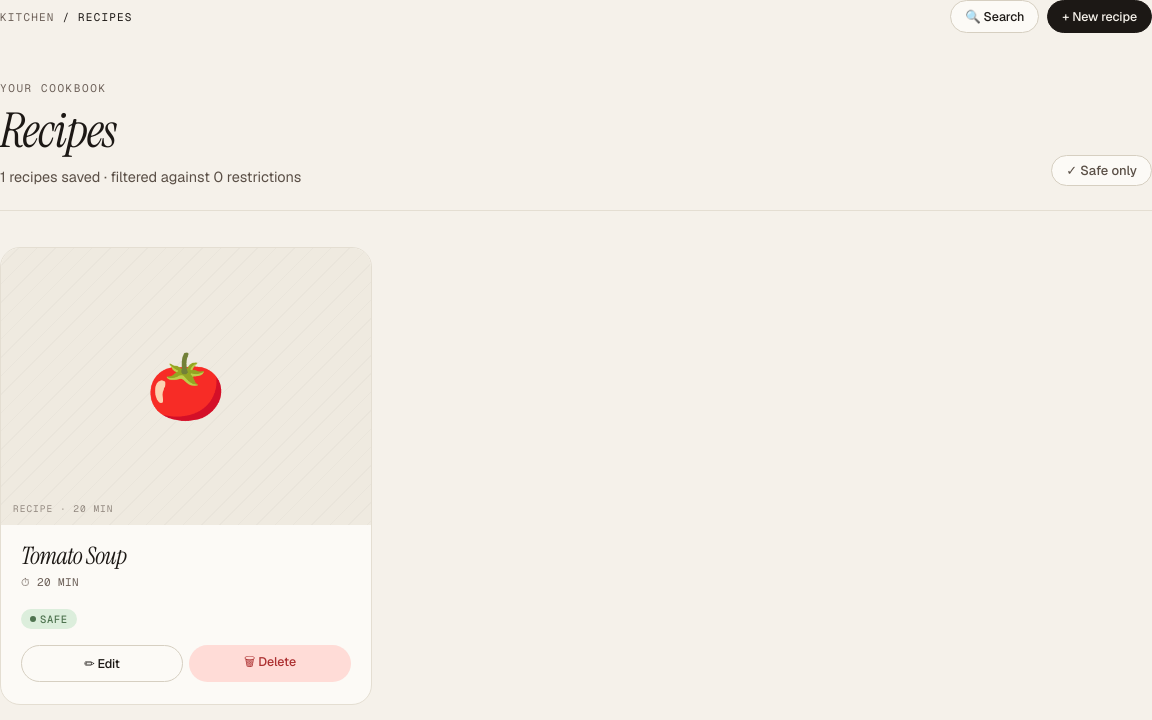
RecipesScreen – delete card confirmation modal › closes the confirmation modal when Cancel is clicked
Click the button "🗑 Delete" at (270, 663), box top-left (189, 645), bottom-right (351, 682)
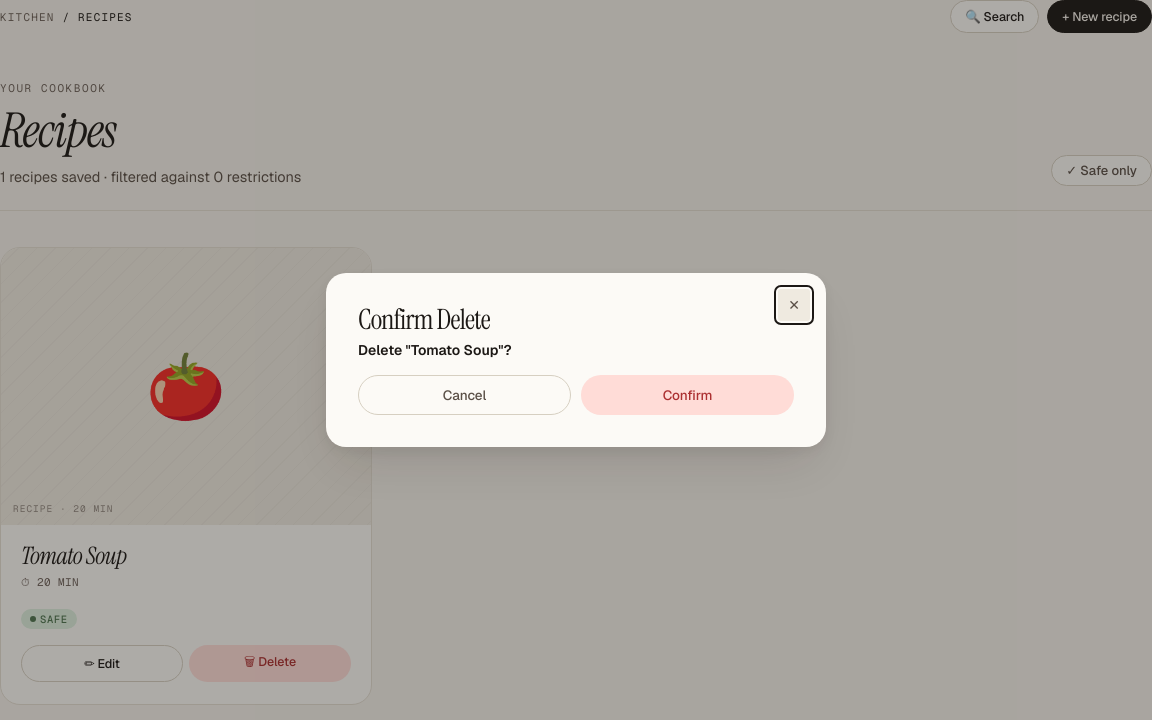
Click the button "Cancel" at (464, 395), box top-left (358, 375), bottom-right (571, 415)
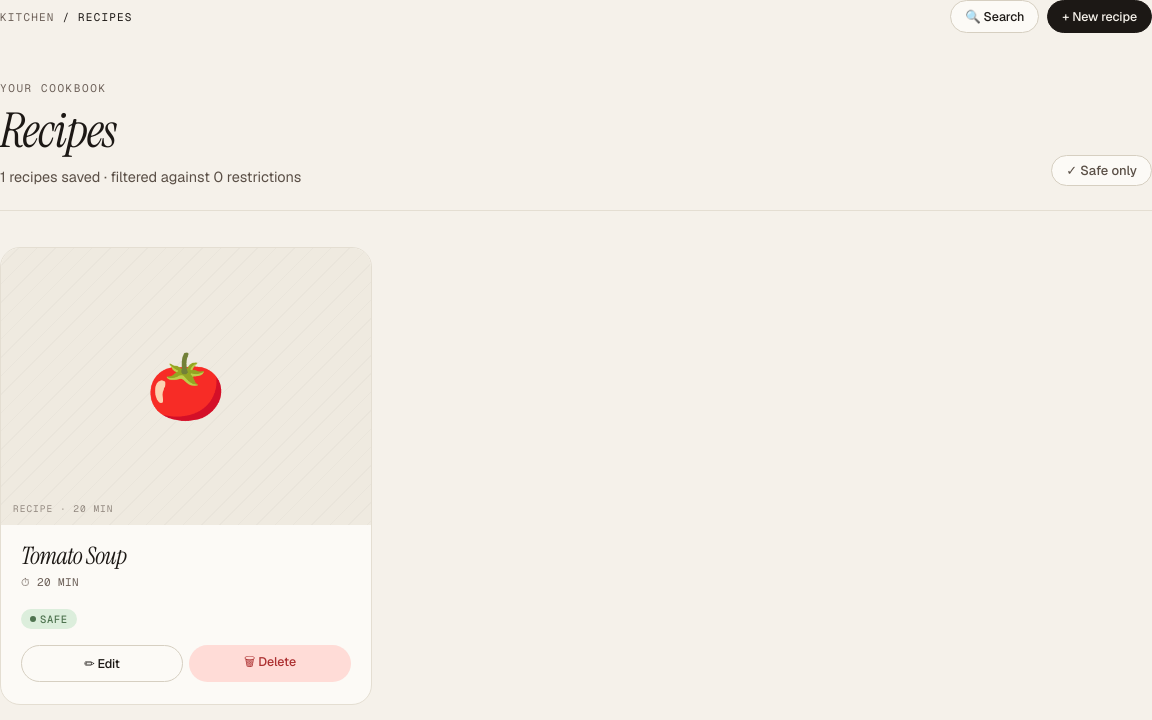
Now the text "Confirm Delete" is gone
